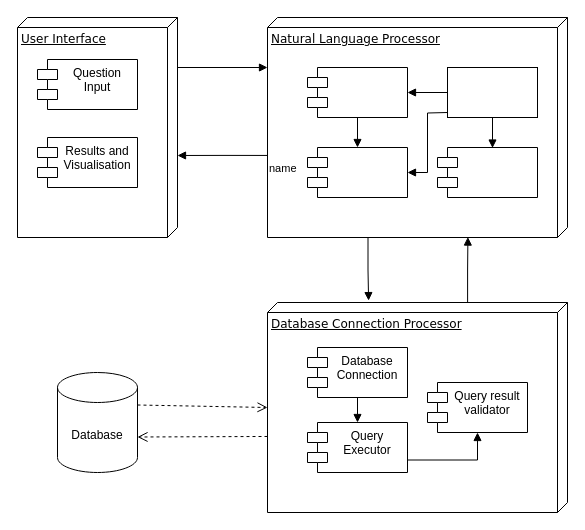
Some shapes in this 585 by 530 pixel diagram are drawn without their labels. The shapes that lost their labels are listed below. From the top down, each one's centre as x and y in pixels, then its label:
(x=357, y=92): Request Validator
(x=492, y=92): Infectious LLM
(x=357, y=172): Query Generator
(x=487, y=172): Response Processor
